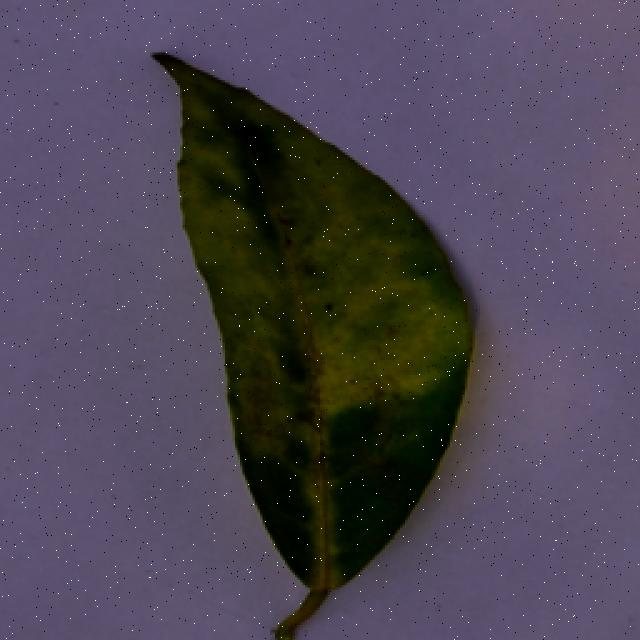greening: (117, 47, 502, 640)
